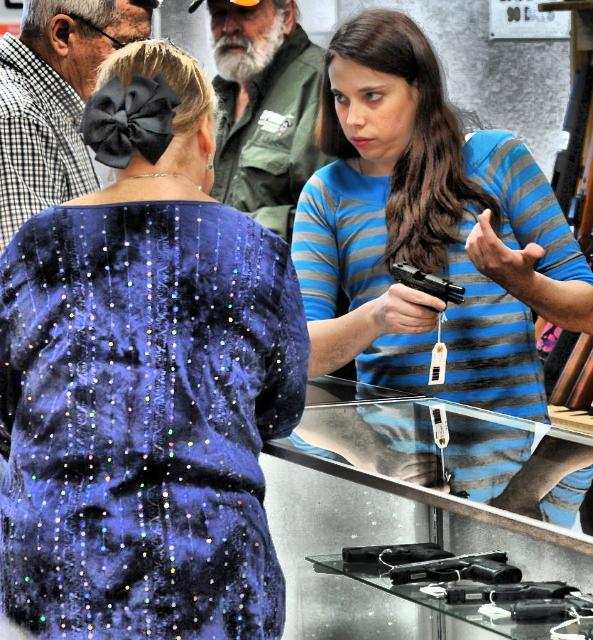pistol: (444, 568, 578, 610), (390, 550, 522, 592), (388, 260, 464, 324), (340, 536, 456, 568)
